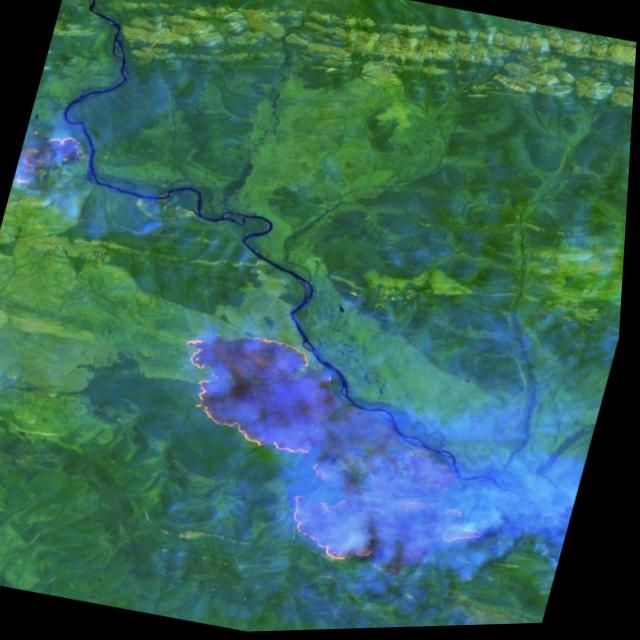fire: (141, 310, 540, 605), (15, 115, 113, 192)
